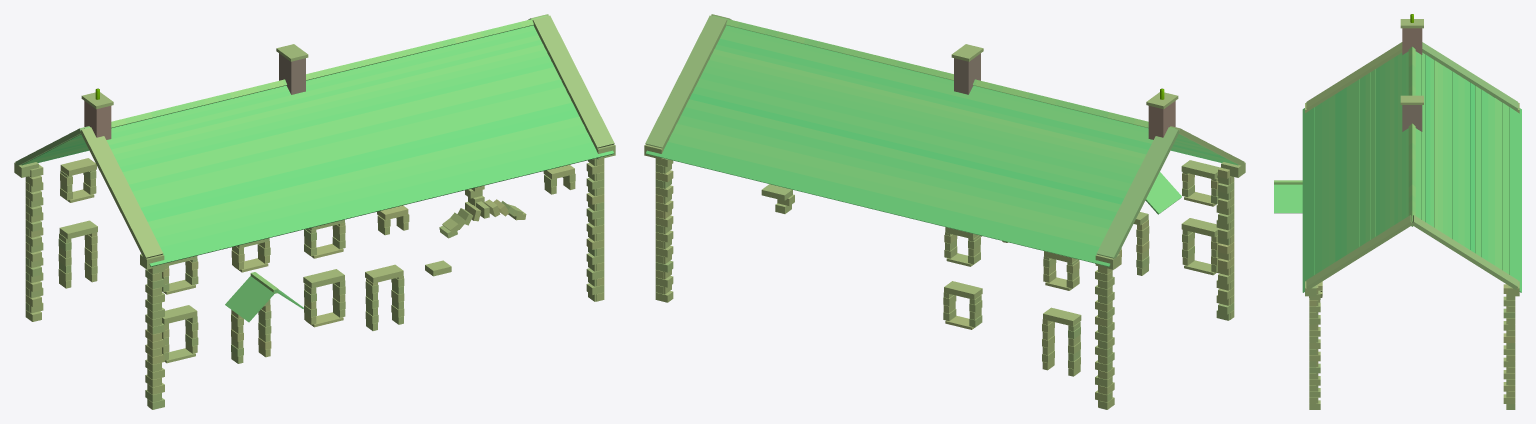
Rendered from SM_Bld_036_Stone.glb.
3 views of the same model, side by side, from view 1: azimuth 30°, elevation 25°; view 2: azimuth 150°, elevation 25°; view 3: azimuth 270°, elevation 25° (orthographic). The views are drawn at different scales.
Parts seen in each view (by area): view 1: SM_Bld_036_Stone; view 2: SM_Bld_036_Stone; view 3: SM_Bld_036_Stone.
Part boxes in pixels (x1,y1,x2,y2): SM_Bld_036_Stone: (14, 14, 615, 409); SM_Bld_036_Stone: (644, 14, 1245, 409); SM_Bld_036_Stone: (1274, 14, 1521, 409).
Bounding box in the file's own units: 19.52 × 10.82 × 11.04.
